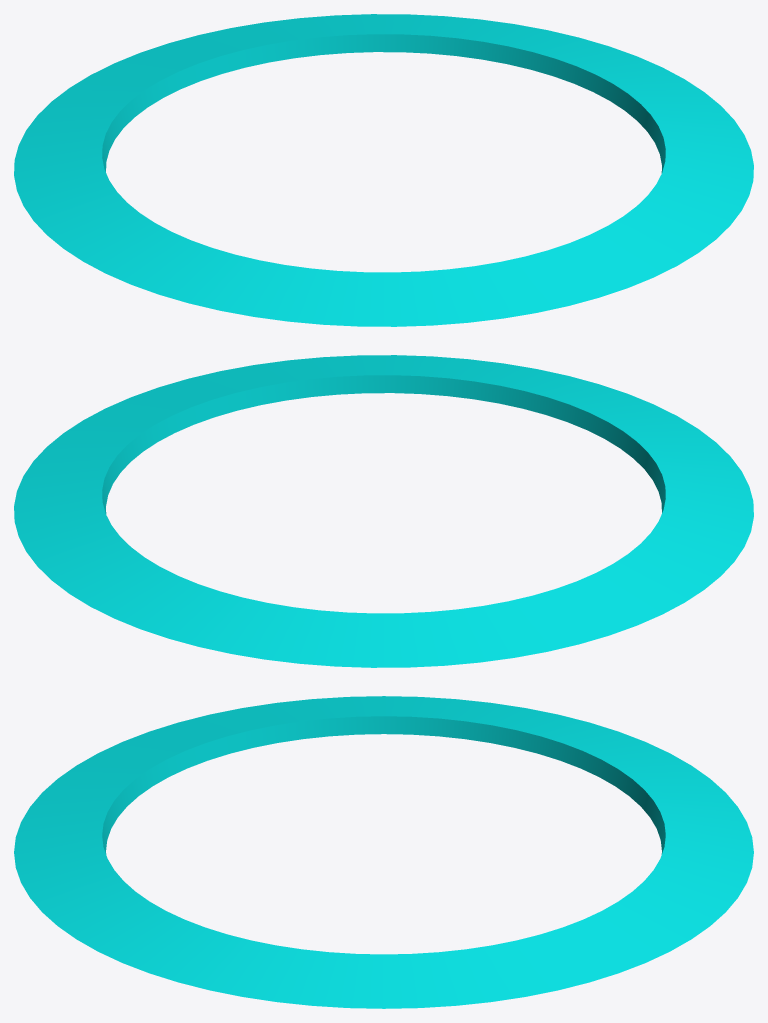
Rendered from custom_reticle.glb.
3 views of the same model, one above another, from view 1: azimuth 30°, elevation 25°; view 2: azimuth 150°, elevation 25°; view 3: azimuth 270°, elevation 25° (orthographic).
Visible parts, largest first — view 1: Circle; view 2: Circle; view 3: Circle.
Boxes of the visible parts, <box> form: Circle: <box>14,14,753,326</box>; Circle: <box>14,355,753,667</box>; Circle: <box>14,696,753,1008</box>.
Size of the model in its own units: 0.292 by 0.00747 by 0.292.
